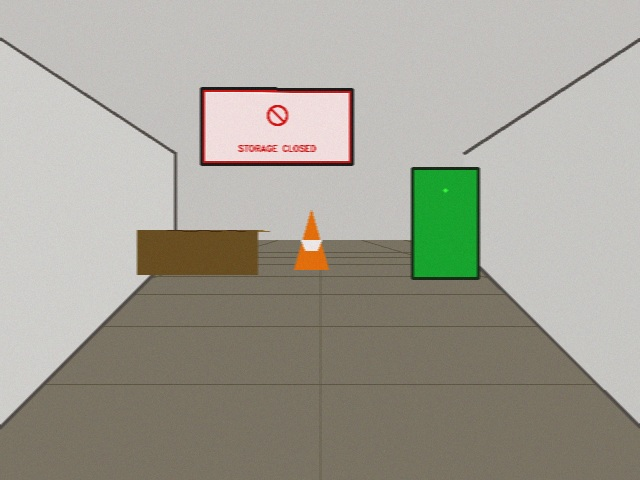charging_station: (412, 168, 478, 278)
directional_sign: (201, 88, 352, 164)
obstacle: (294, 210, 328, 269)
pallet: (137, 230, 269, 274)
